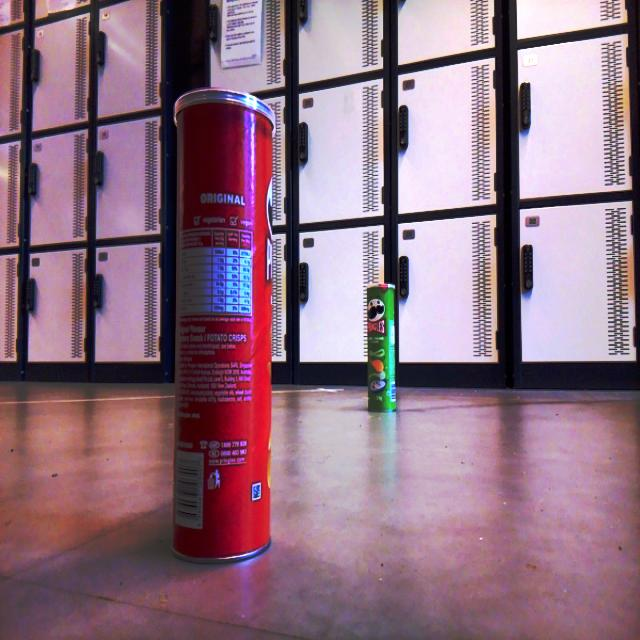greenpringles: (358, 268, 408, 421)
redpringles: (157, 77, 286, 570)
